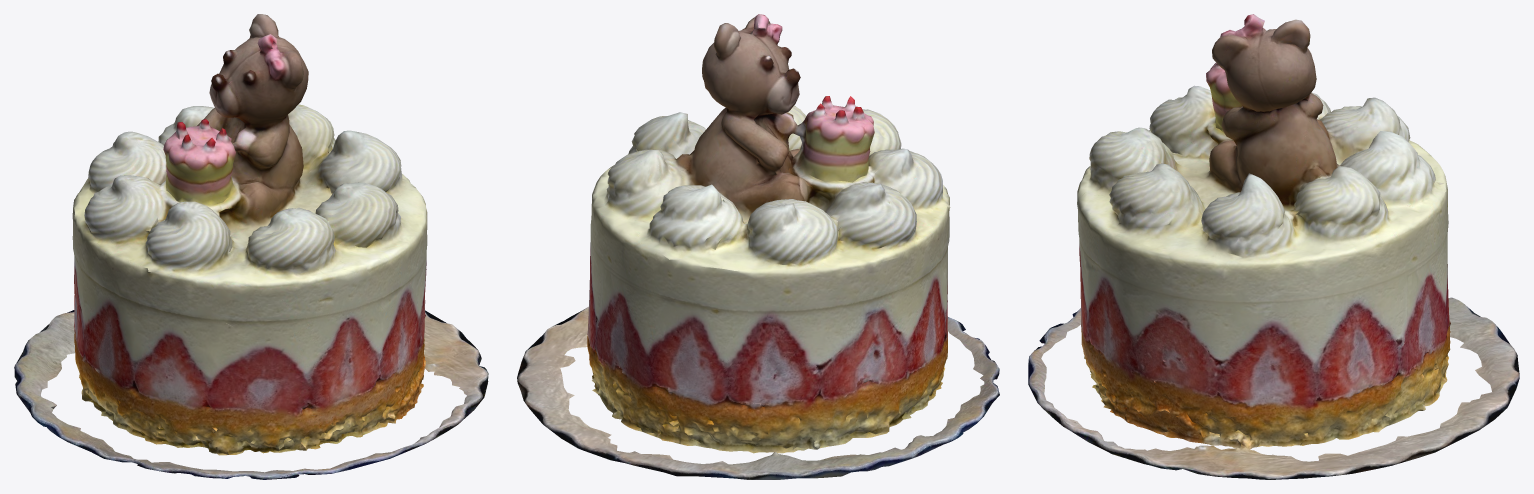
Rendered from strawberry.glb.
The picture shows the model from 3 angles, left to right: view 1: azimuth 30°, elevation 25°; view 2: azimuth 150°, elevation 25°; view 3: azimuth 270°, elevation 25°; orthographic projection. The views are drawn at different scales.
Size of the model in its own units: 0.22 by 0.1803 by 0.2188.
1 material, 1 textured.
